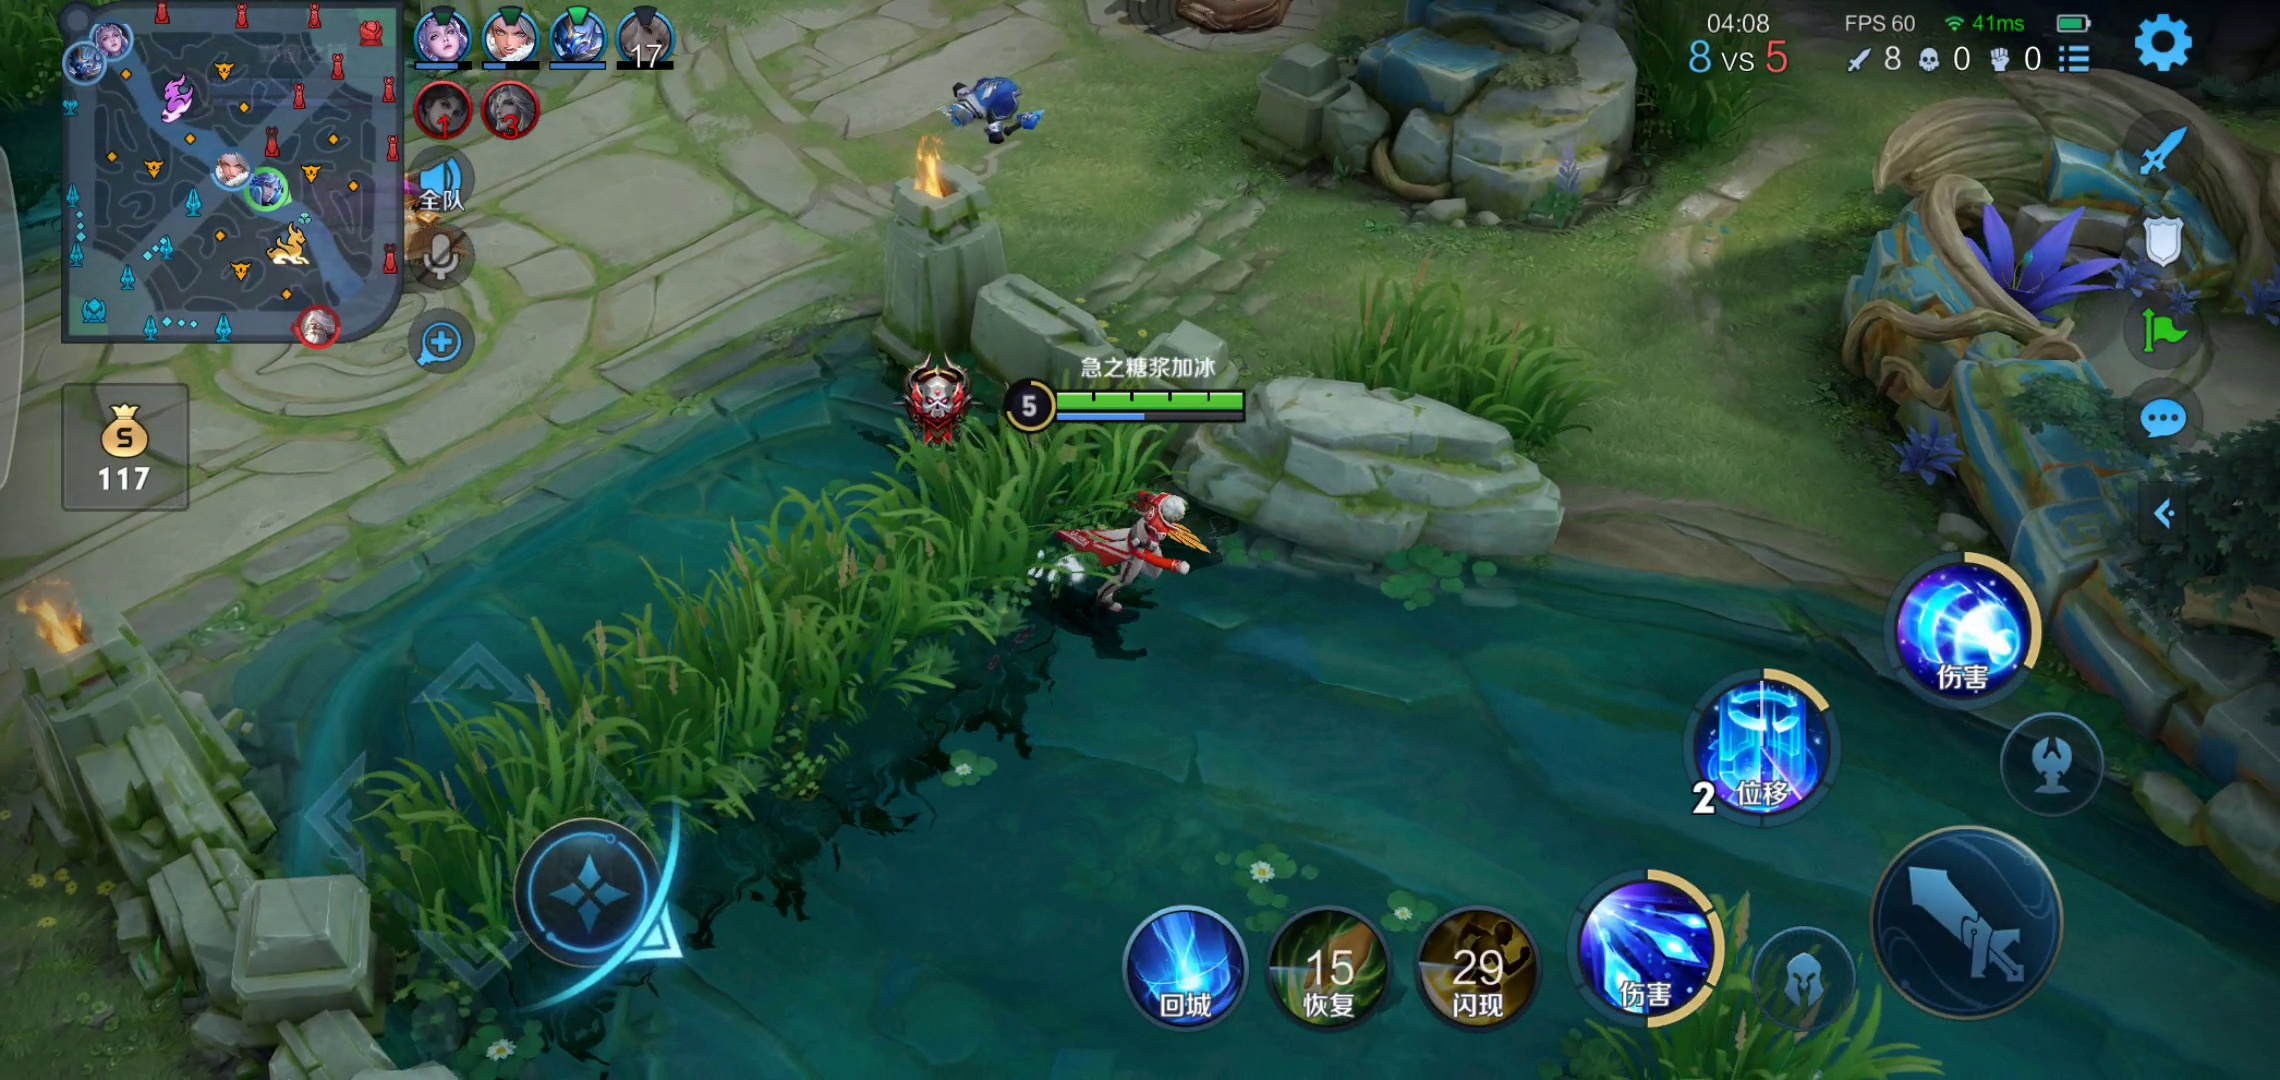grass: (382, 379, 1229, 993), (1290, 265, 1589, 465), (1586, 890, 1887, 1080), (1602, 1, 1778, 170)
hero: (1063, 491, 1208, 610)
soldier: (929, 70, 1060, 150)
tower: (1080, 1, 1312, 51)
